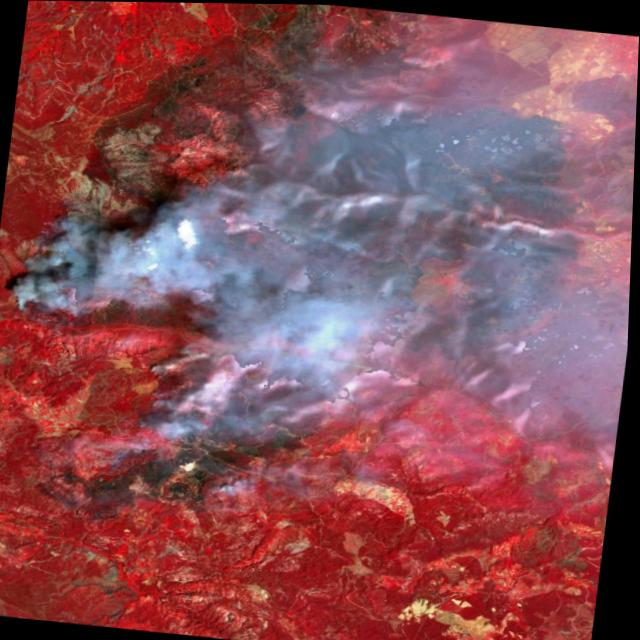fire: (0, 183, 311, 535)
